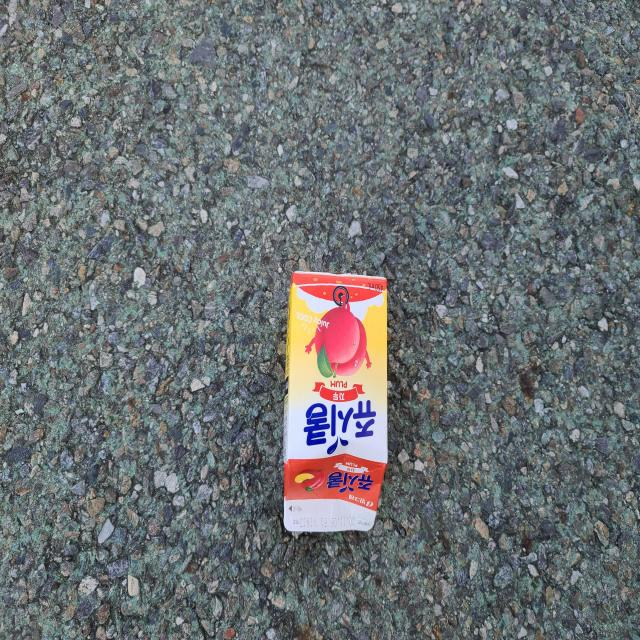paperpack: (284, 271, 388, 532)
